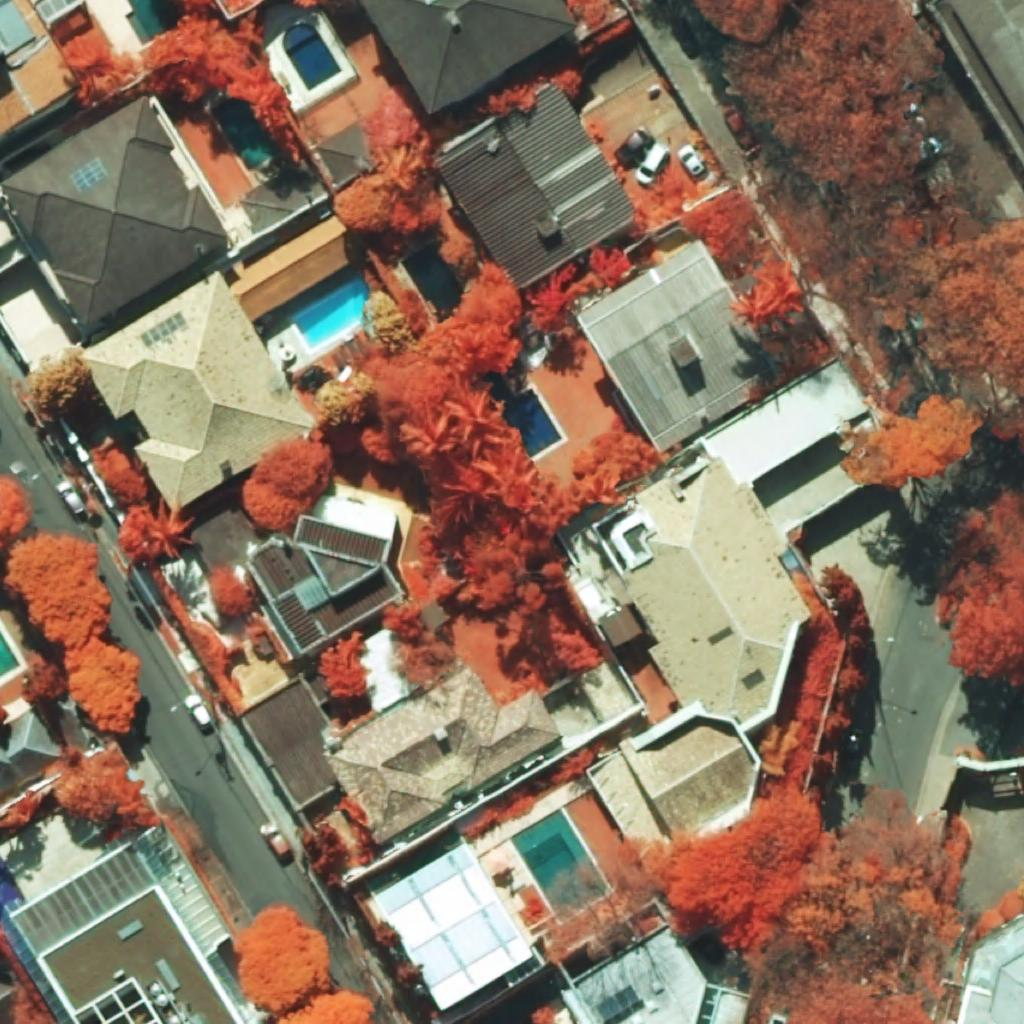pool: (509, 809, 606, 923), (293, 279, 368, 350), (211, 99, 283, 170), (282, 23, 342, 91), (503, 389, 561, 459), (125, 0, 185, 46), (0, 857, 22, 923)
